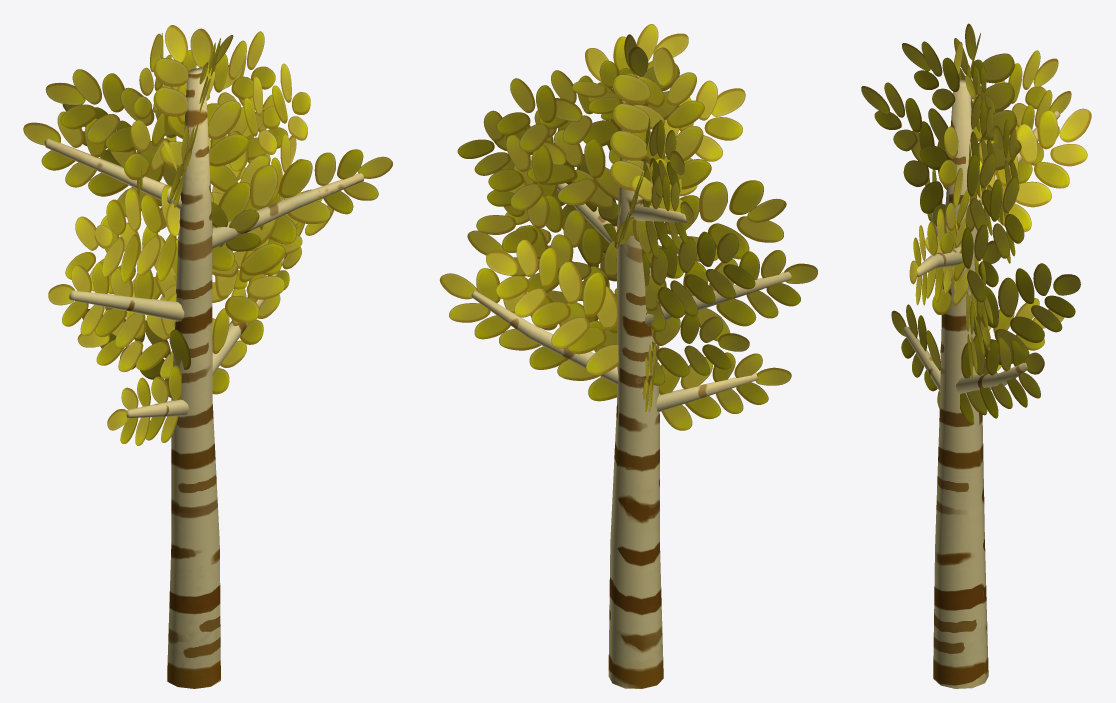
File: aspen-transformed.glb
The picture shows the model from 3 angles, left to right: view 1: azimuth 30°, elevation 25°; view 2: azimuth 150°, elevation 25°; view 3: azimuth 270°, elevation 25°; orthographic projection.
Visible parts, largest first — view 1: aspen_leef, aspen; view 2: aspen_leef, aspen; view 3: aspen_leef, aspen.
Boxes of the visible parts, bbox=[...] form: aspen_leef: bbox=[23, 25, 392, 445]; aspen: bbox=[44, 68, 364, 688]; aspen_leef: bbox=[439, 24, 817, 430]; aspen: bbox=[471, 74, 791, 688]; aspen_leef: bbox=[861, 23, 1091, 424]; aspen: bbox=[902, 79, 1060, 688].
Size of the model in its own units: 2.05 by 3.64 by 1.26.
Materials: 2 (2 with a texture image).
